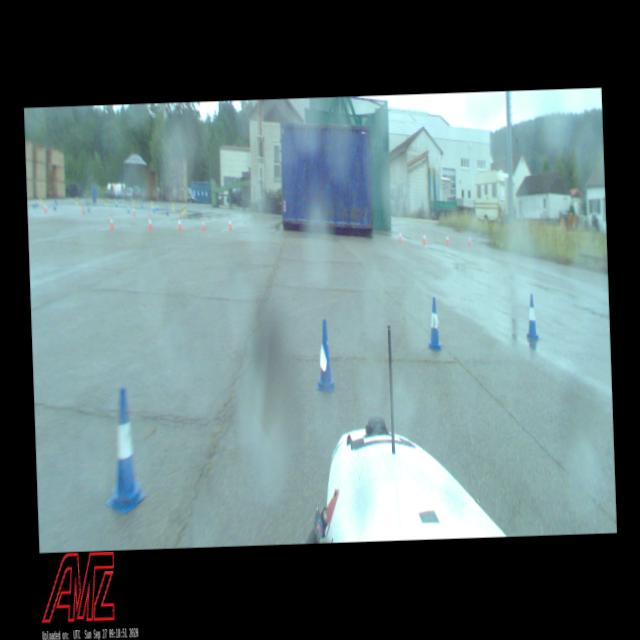blue_cone: (101, 388, 146, 514), (313, 319, 335, 392), (424, 297, 442, 350), (525, 294, 538, 339)
orange_cone: (108, 213, 114, 229), (177, 216, 181, 230), (398, 228, 402, 242), (446, 232, 450, 245), (422, 231, 426, 244), (148, 216, 152, 228), (228, 217, 231, 230), (468, 233, 471, 246), (202, 217, 204, 230)
